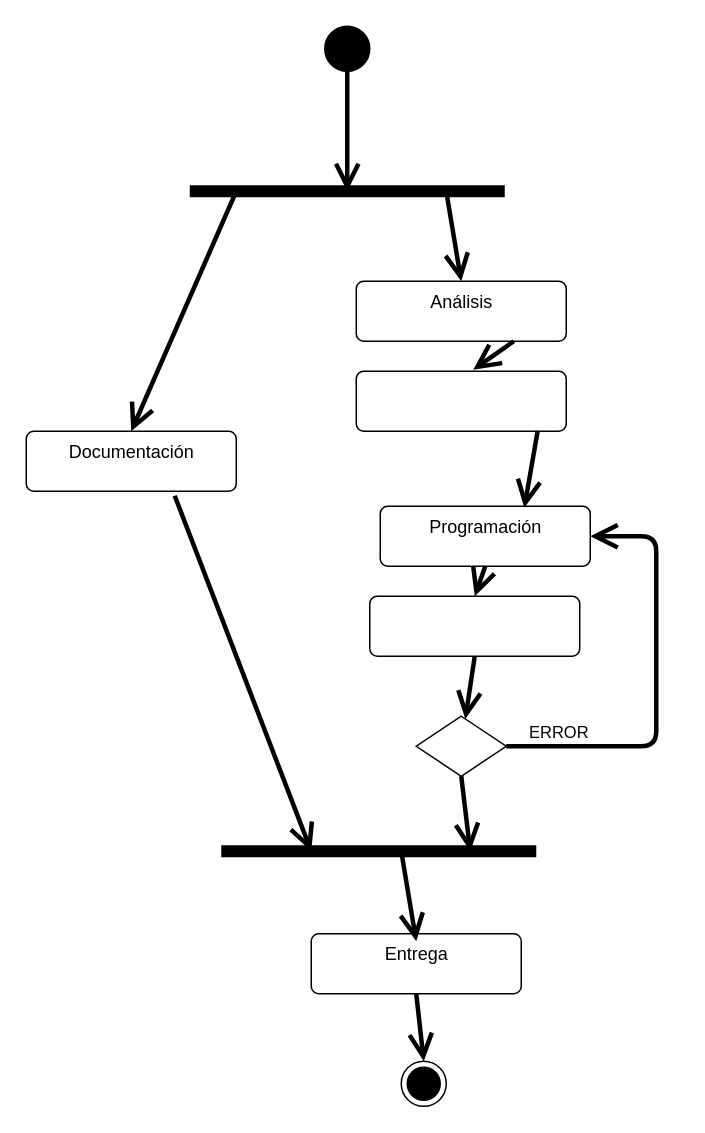
Image size: 705x1133. Some labels were removed from this diagram. Here are the shapes that lost their labels. From the top down, the box of each, then its label:
(355, 370, 566, 431): Diseño
(368, 595, 580, 656): Prueba
